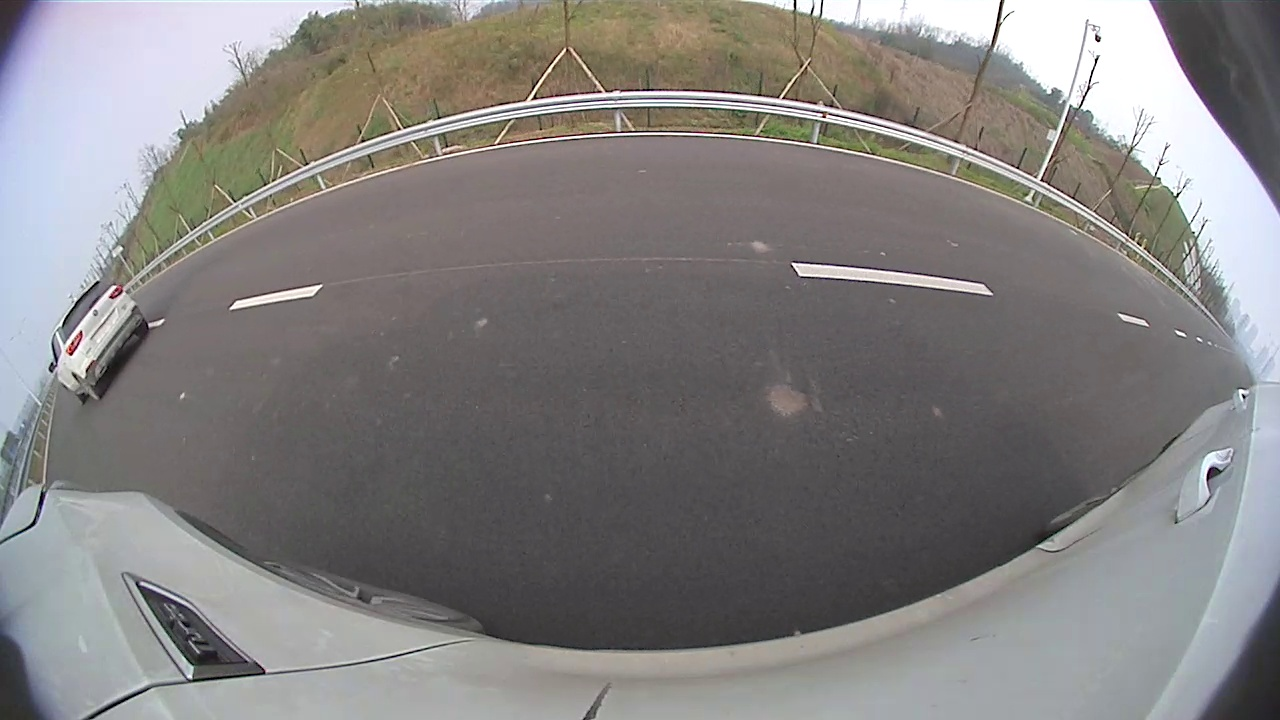car: (701, 7, 1116, 357)
front: (1046, 300, 1097, 358)
rear: (833, 229, 940, 331)
